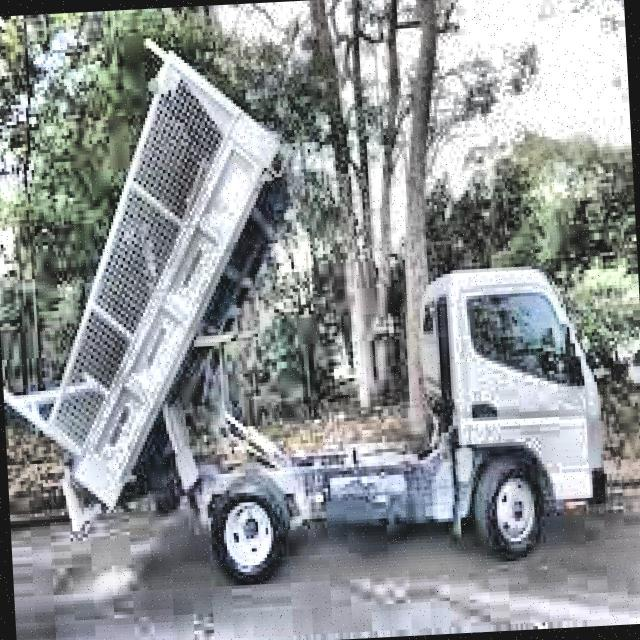dump_truck: (0, 13, 613, 587)
